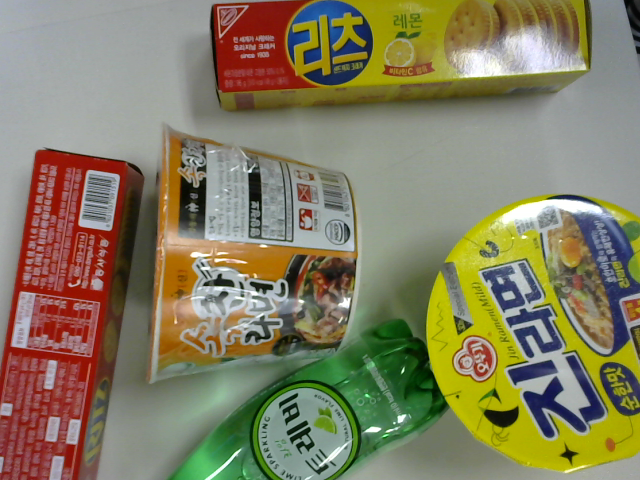Hejangchan: (141, 128, 362, 375)
Jinlamyeon_Mild_Taste_Large_Cup: (413, 178, 640, 473)
Ritz_Cracker: (1, 146, 164, 478)
Ritz_Remon_96g: (196, 1, 601, 117)
Treviraim_500ml: (178, 315, 461, 480)
